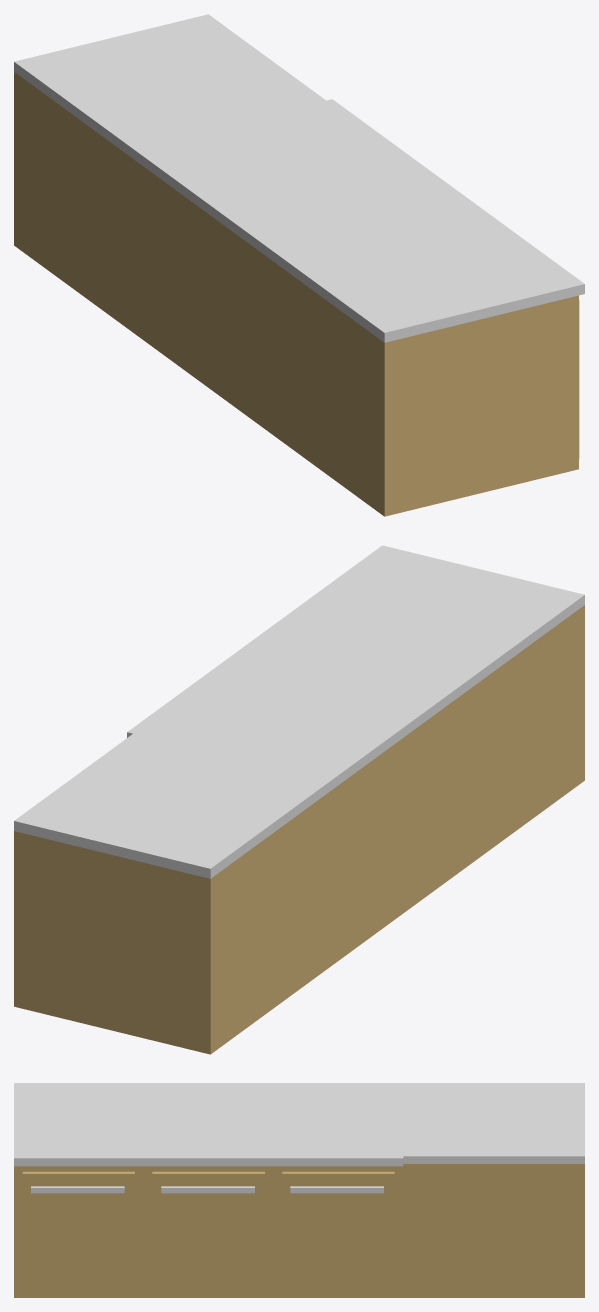
File: Kitchen table 1.fbx
3 renders of one model, top to bottom at view 1: azimuth 30°, elevation 25°; view 2: azimuth 150°, elevation 25°; view 3: azimuth 270°, elevation 25°, orthographic. The views are drawn at different scales.
Parts seen in each view (by area): view 1: Cube.002; view 2: Cube.002; view 3: Cube.002.
Boxes of the visible parts, x1,y1,x2,y2 form: Cube.002: (14, 14, 584, 516); Cube.002: (14, 545, 584, 1054); Cube.002: (14, 1083, 584, 1297).
Size of the model in its own units: 211 by 181 by 660.
